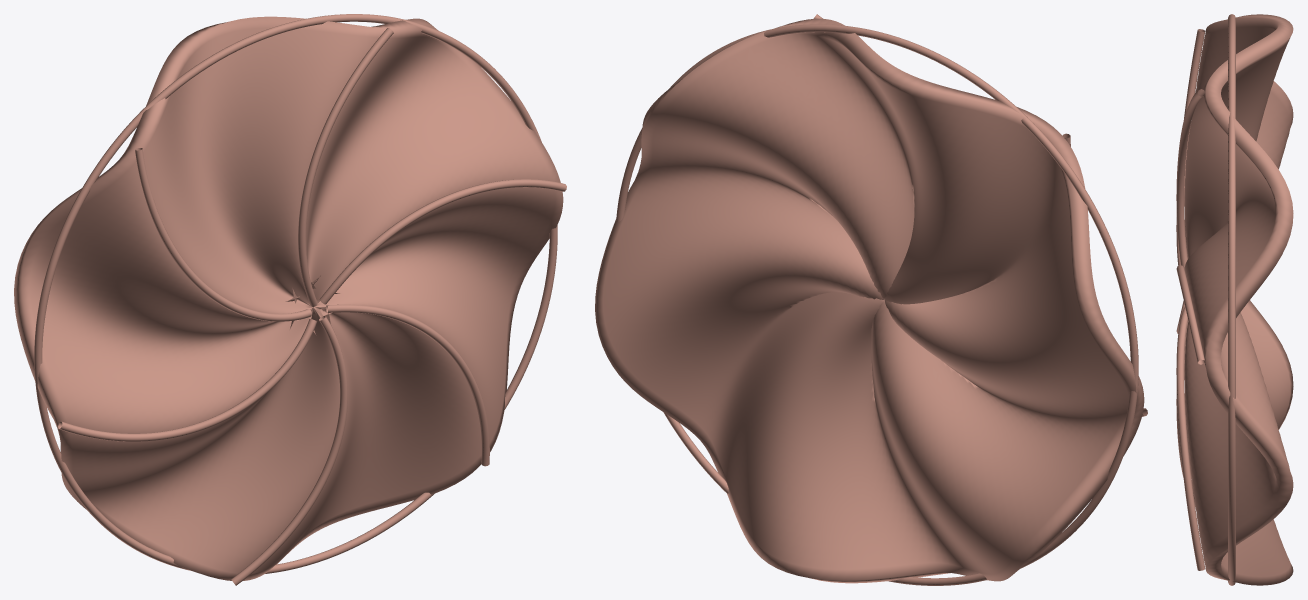
The model's file is spiral-copper.glb.
The picture shows the model from 3 angles, left to right: view 1: azimuth 30°, elevation 25°; view 2: azimuth 150°, elevation 25°; view 3: azimuth 270°, elevation 25°; orthographic projection. The views are drawn at different scales.
Parts seen in each view (by area): view 1: spiral continuous metal face.001, Rolled perimeter.004, Curved overlapping fold.011, Curved overlapping fold.008, Curved overlapping fold.010, Curved overlapping fold.007, Curved overlapping fold.009, Curved overlapping fold.006; view 2: spiral continuous metal face.001, Rolled perimeter.004; view 3: spiral continuous metal face.001, Rolled perimeter.004, Curved overlapping fold.006, Curved overlapping fold.008, Curved overlapping fold.009, Curved overlapping fold.007, Curved overlapping fold.011.
Part boxes in pixels (left/top/right/bottom): spiral continuous metal face.001: left=14, top=16, right=563, bottom=580; Rolled perimeter.004: left=34, top=14, right=557, bottom=573; Curved overlapping fold.011: left=231, top=316, right=347, bottom=585; Curved overlapping fold.008: left=298, top=28, right=393, bottom=306; Curved overlapping fold.010: left=58, top=319, right=317, bottom=441; Curved overlapping fold.007: left=319, top=179, right=566, bottom=304; Curved overlapping fold.009: left=135, top=148, right=311, bottom=321; Curved overlapping fold.006: left=326, top=304, right=489, bottom=466; spiral continuous metal face.001: left=595, top=18, right=1144, bottom=583; Rolled perimeter.004: left=616, top=24, right=1138, bottom=585; spiral continuous metal face.001: left=1184, top=14, right=1293, bottom=585; Rolled perimeter.004: left=1228, top=14, right=1235, bottom=585; Curved overlapping fold.006: left=1176, top=307, right=1205, bottom=570; Curved overlapping fold.008: left=1176, top=89, right=1205, bottom=268; Curved overlapping fold.009: left=1176, top=29, right=1205, bottom=265; Curved overlapping fold.007: left=1176, top=265, right=1205, bottom=364; Curved overlapping fold.011: left=1176, top=321, right=1195, bottom=505.
Size of the model in its own units: 2.03 by 2.03 by 0.4149.
